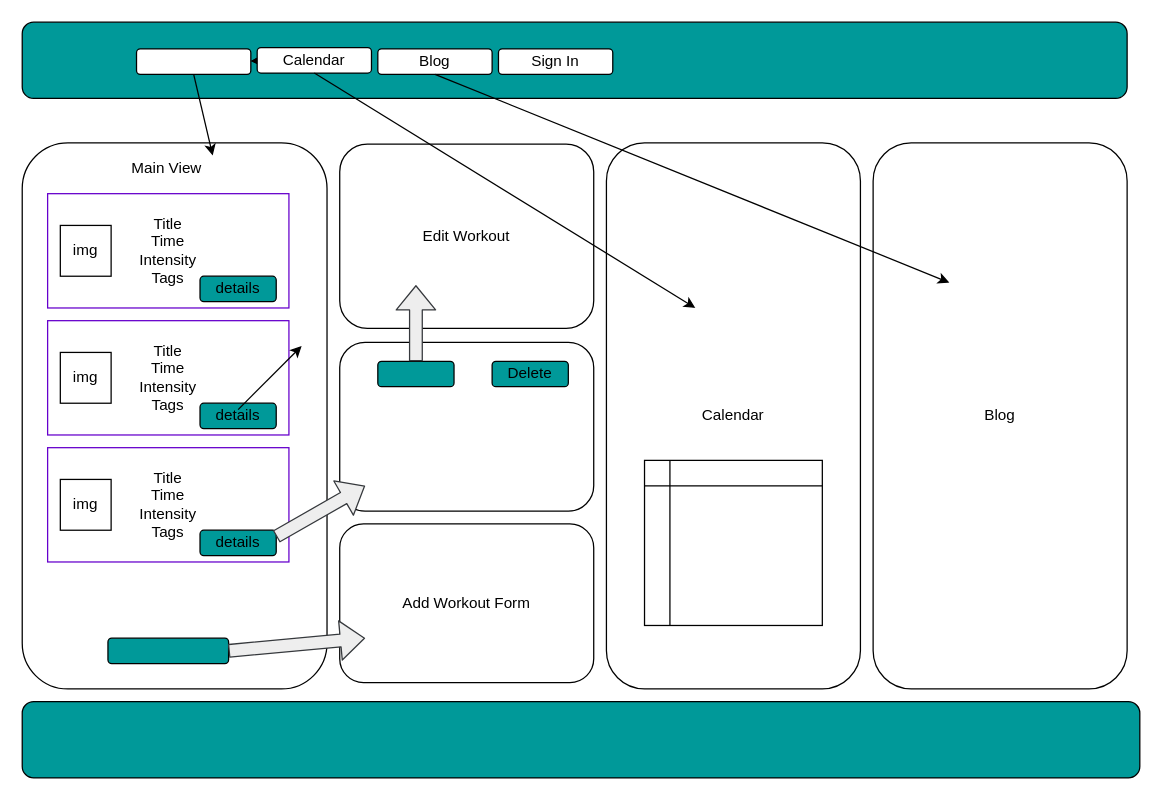
Some shapes in this 1162 by 800 pixel diagram are drawn without their labels. The shapes that lost their labels are listed below. From the top down, each one's box as (x1, y1, x2, y2) in pixels, then its label:
(135, 48, 251, 74): Workouts
(21, 21, 1127, 98): Header - Title
(377, 360, 454, 387): Edit
(338, 341, 594, 511): Workout Details
(107, 637, 229, 664): Add Workout
(21, 700, 1140, 778): Footer
